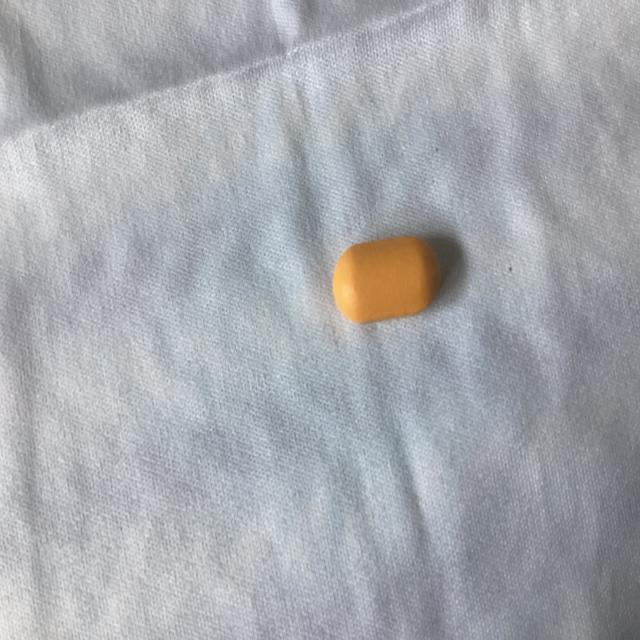-: (332, 224, 448, 324)
